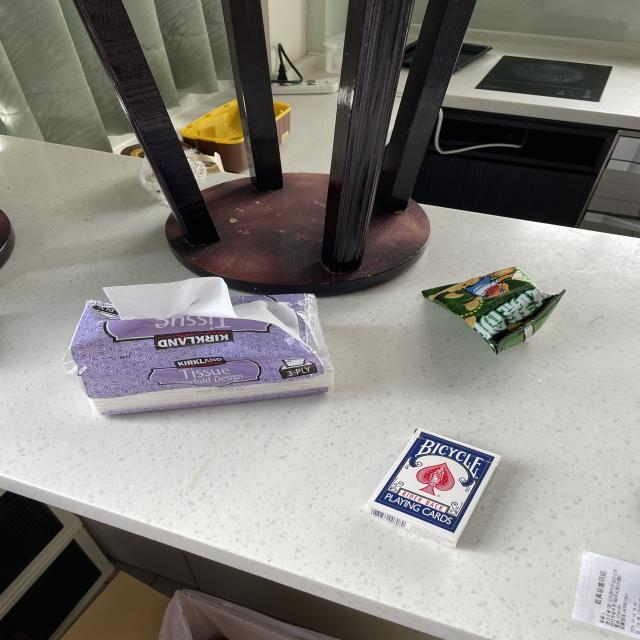tissue: (62, 274, 334, 419)
